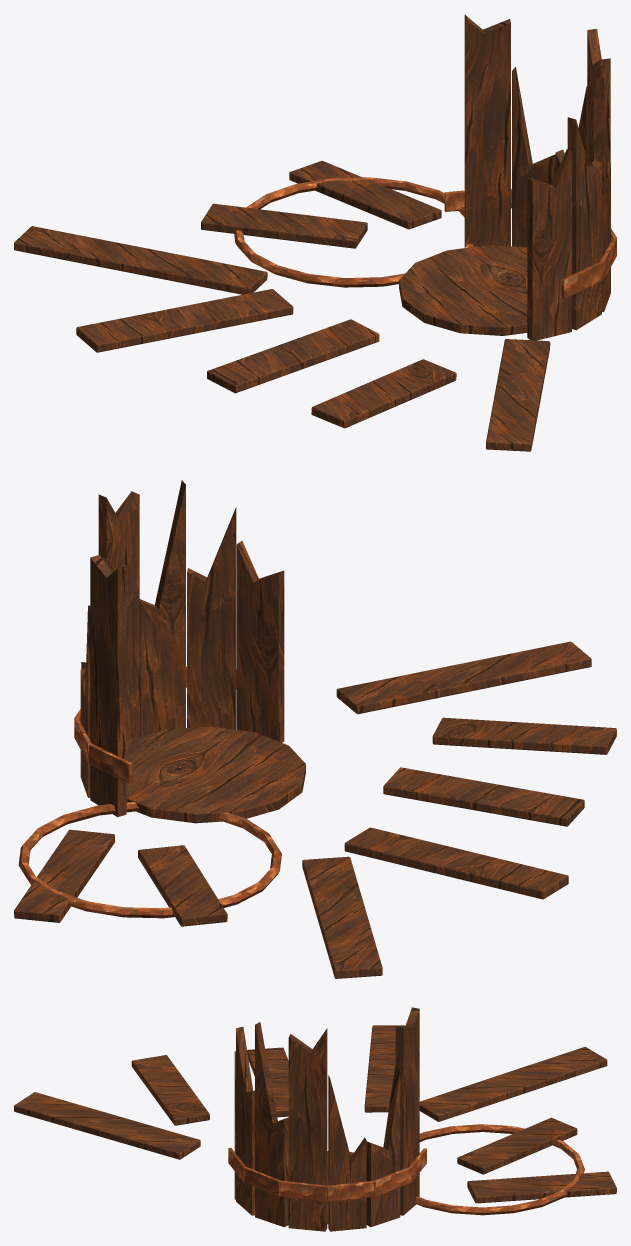
The model's file is barrel_smashed.glb.
3 renders of one model, top to bottom at view 1: azimuth 30°, elevation 25°; view 2: azimuth 150°, elevation 25°; view 3: azimuth 270°, elevation 25°, orthographic. The views are drawn at different scales.
Parts seen in each view (by area): view 1: model; view 2: model; view 3: model.
Boxes of the visible parts, box(x1,y1,x2,y2) form: model: box(14, 14, 616, 451); model: box(14, 480, 616, 978); model: box(14, 1007, 616, 1231).
Bounding box in the file's own units: 1.61 × 0.792 × 2.14.
Materials: 2 (2 with a texture image).
